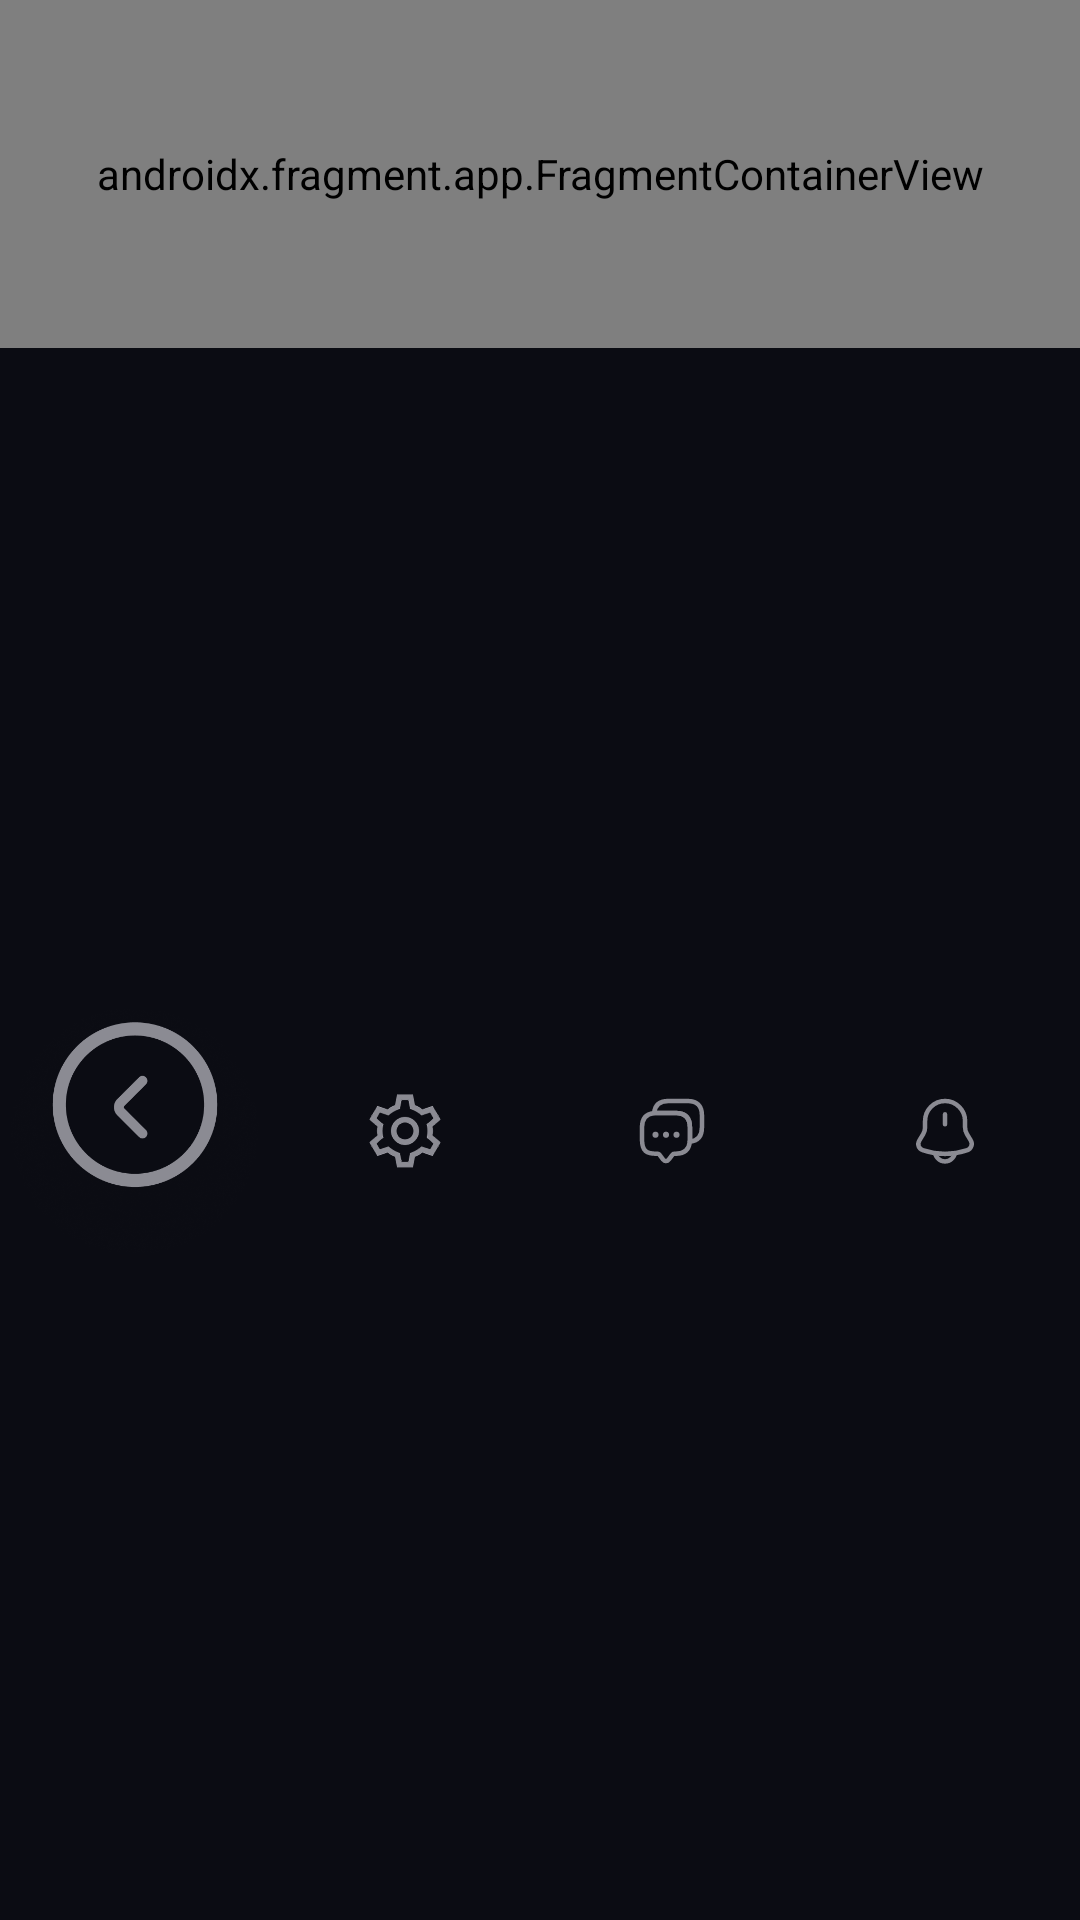

Icons on this 1080w x 1920h Android screen, each with the point to tap as point (x, y):
chat: point (672, 1131)
notification: point (945, 1131)
settings: point (405, 1131)
